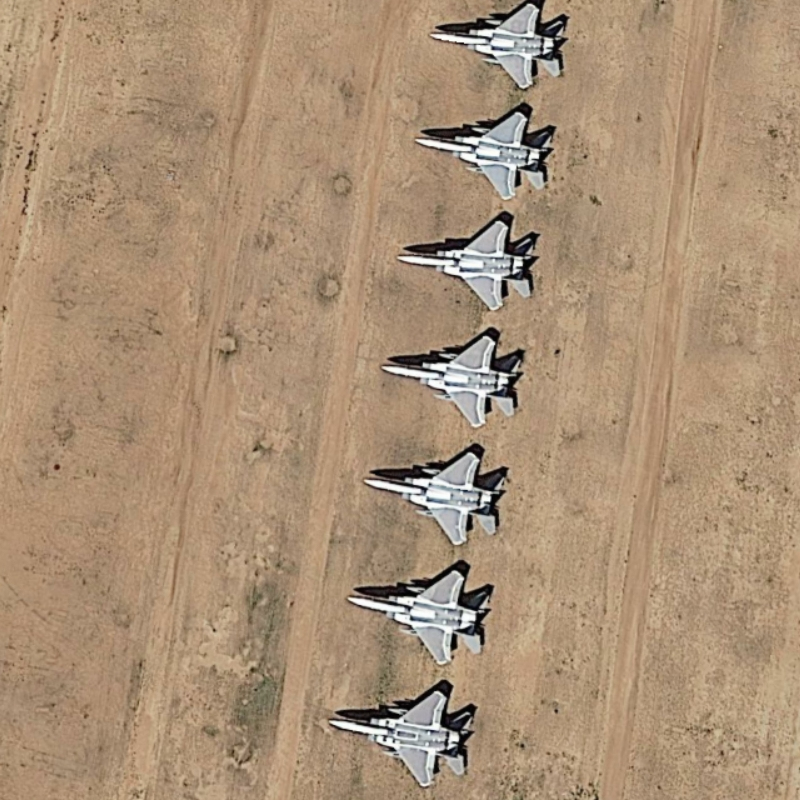A13: (342, 563, 500, 673), (326, 681, 483, 790), (372, 322, 526, 433), (356, 442, 515, 546), (418, 99, 565, 209), (391, 214, 546, 318), (415, 3, 574, 96)
